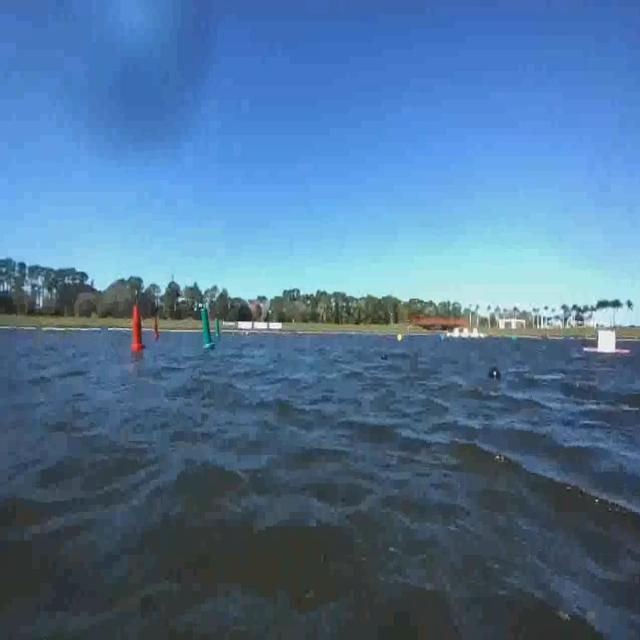black-buoy: (489, 364, 501, 379), (384, 352, 388, 358)
green-column-buoy: (198, 306, 216, 349), (215, 317, 222, 338)
red-column-buoy: (131, 304, 146, 352), (152, 316, 160, 339)
